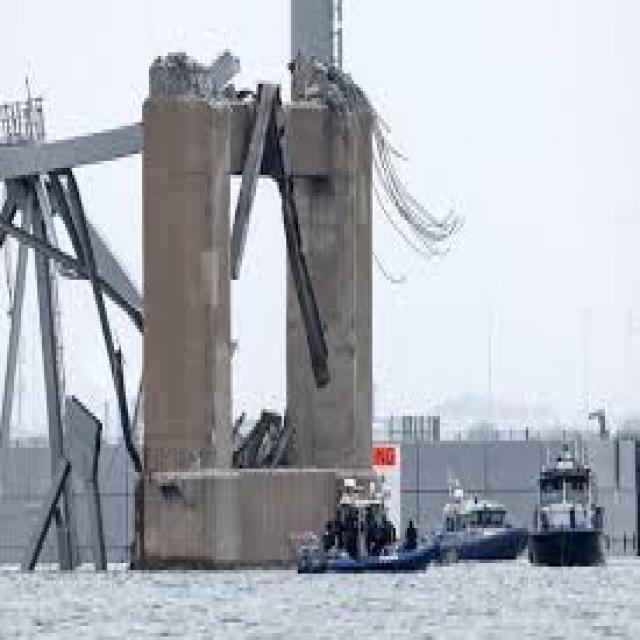bridge collapse: (1, 10, 640, 405)
